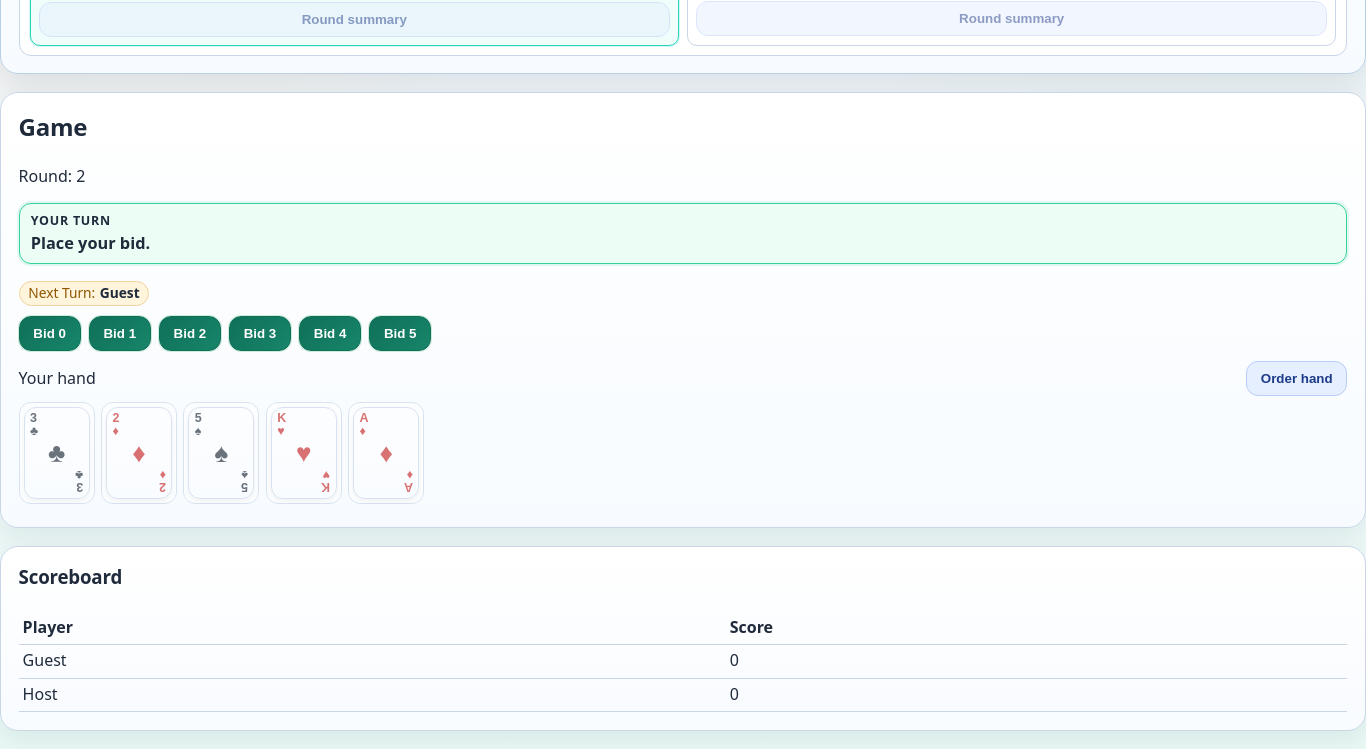
Scenario: GameClient › resets ordered hand preference when a new round starts
This screenshot has width=1366, height=749.
(page scrolled)
Click the button "Order hand" at (1297, 379), box [1246,361,1347,396]
(page scrolled)
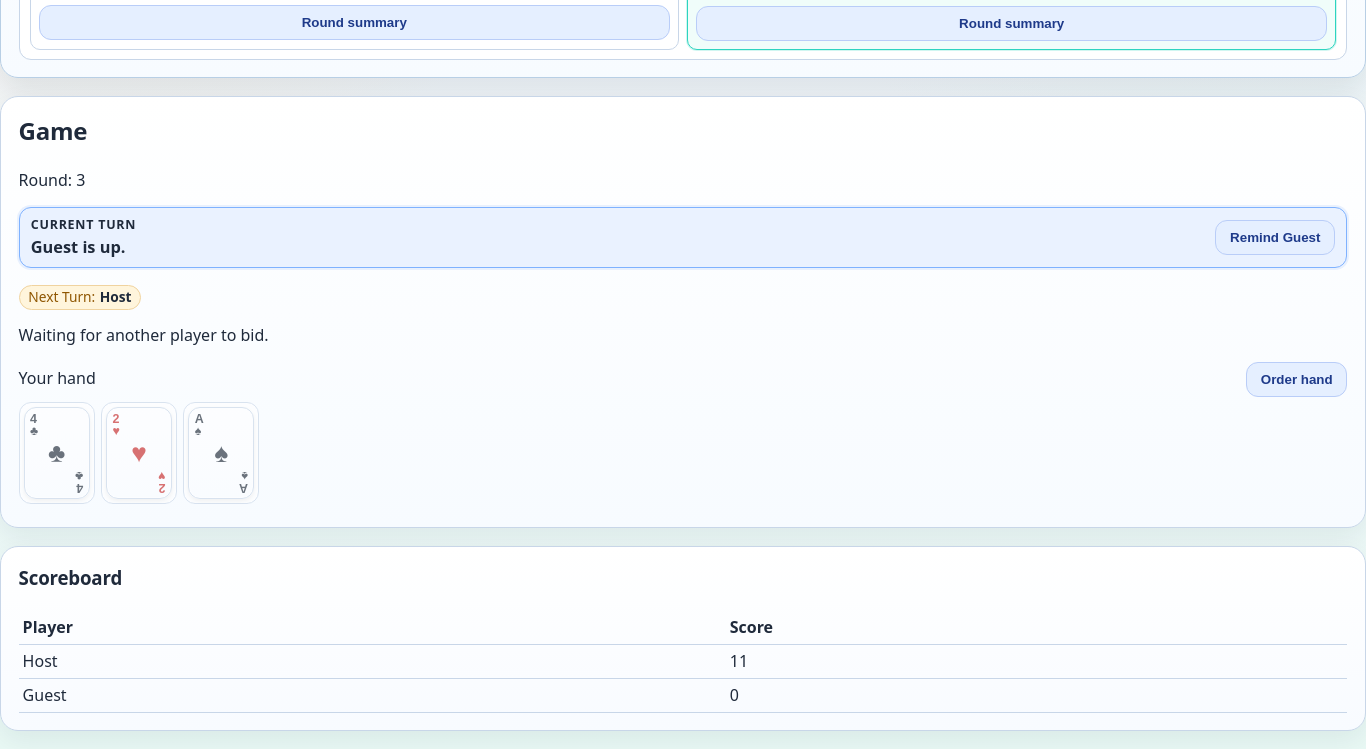
Now the button named "4C" is shown, box [19,402,95,504]
